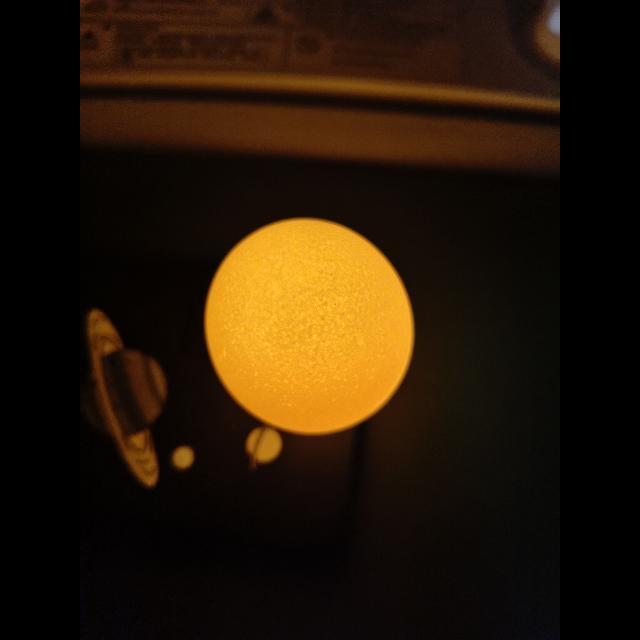AA - Premium: (205, 219, 414, 435), (316, 339, 320, 348)
